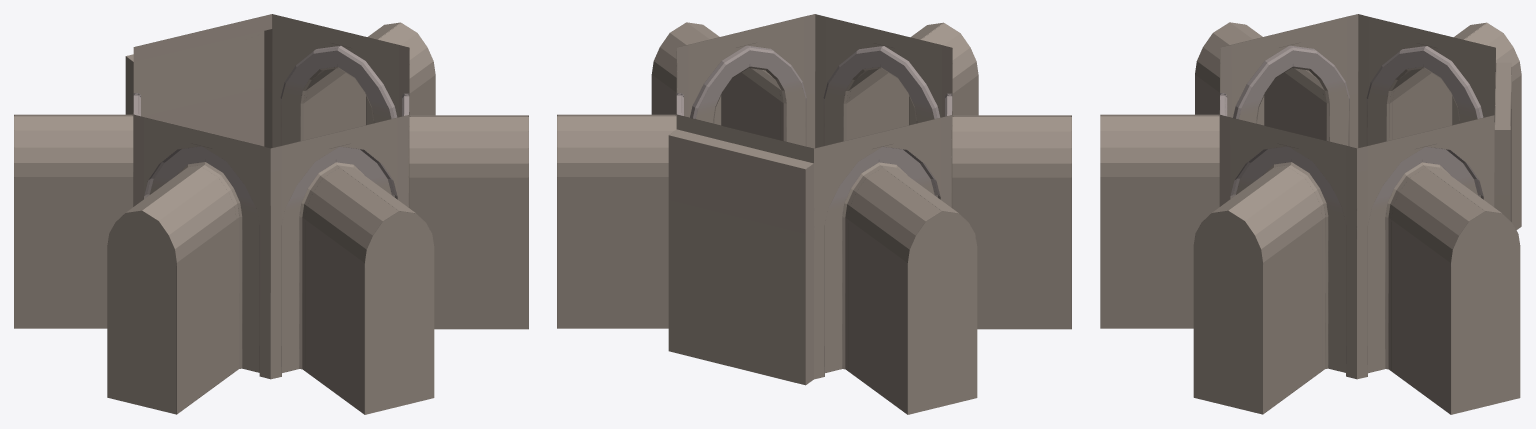
The model's file is LobbyWalls.fbx.
3 renders of one model, left to right at view 1: azimuth 30°, elevation 25°; view 2: azimuth 150°, elevation 25°; view 3: azimuth 270°, elevation 25°, orthographic.
Visible parts, largest first — view 1: Walls; view 2: Walls; view 3: Walls.
Boxes of the visible parts, x1=… form: Walls: x1=14, y1=14, x2=528, y2=414; Walls: x1=557, y1=14, x2=1071, y2=414; Walls: x1=1100, y1=14, x2=1521, y2=414.
Bounding box in the file's own units: 12.25 × 10.61 × 6.41.
